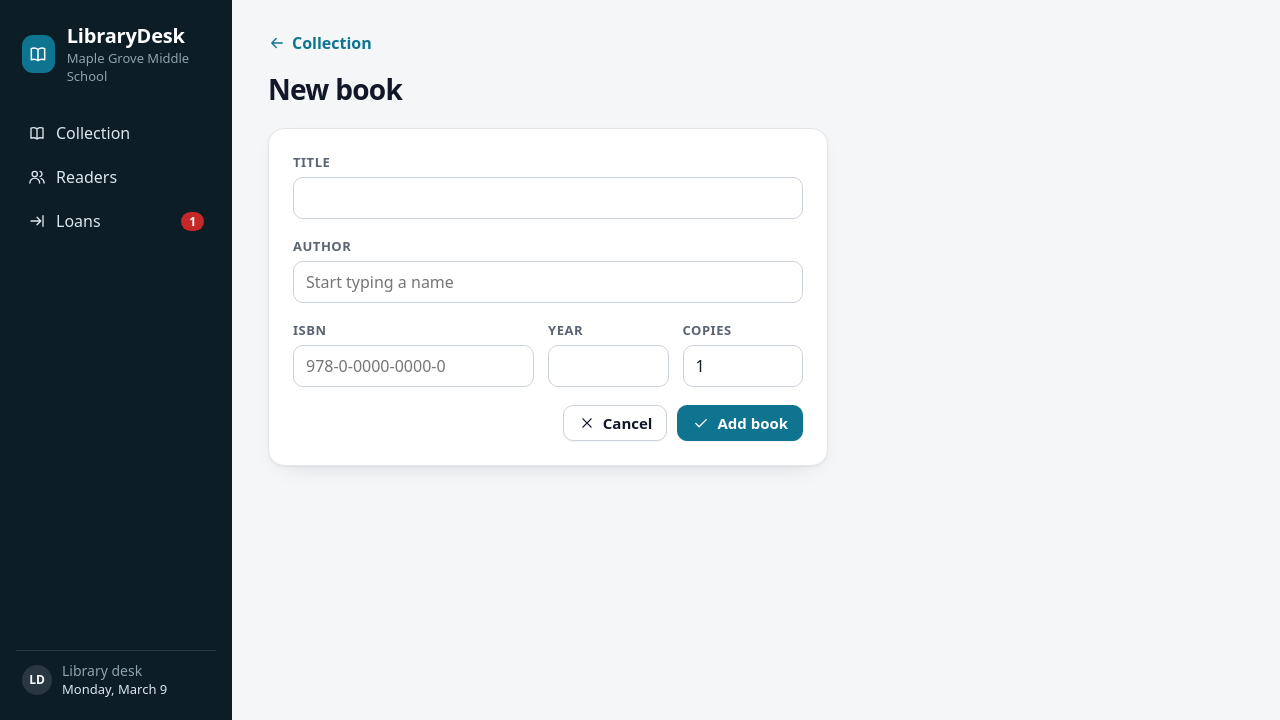
Test: a new book › is added by a new author when the name is not on the list
The width and height of the screenshot is (1280, 720).
Expected: the navigation bar named "Main" is shown, x1=16 y1=113 x2=216 y2=241
In the field labelled "Title": (548, 198) x1=293 y1=177 x2=803 y2=219, type "Go Set a Watchman"
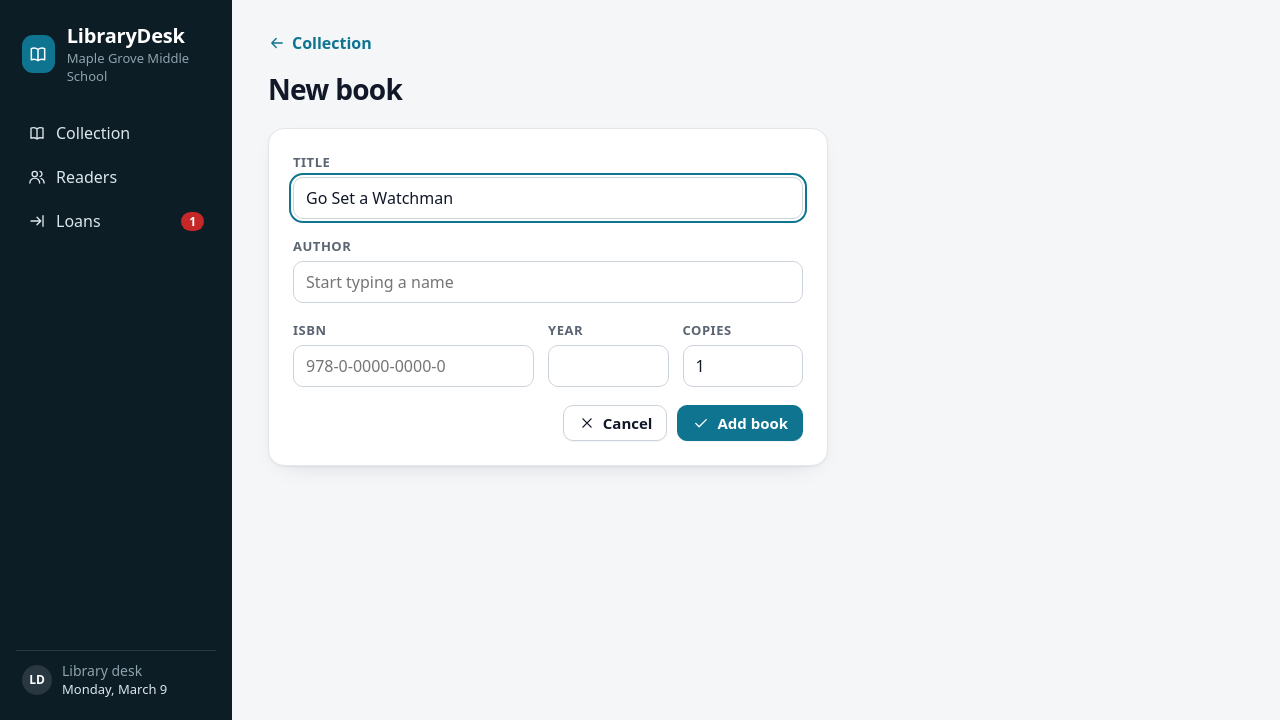
In the field labelled "ISBN": (414, 366) x1=293 y1=345 x2=534 y2=387, type "9780306406157"
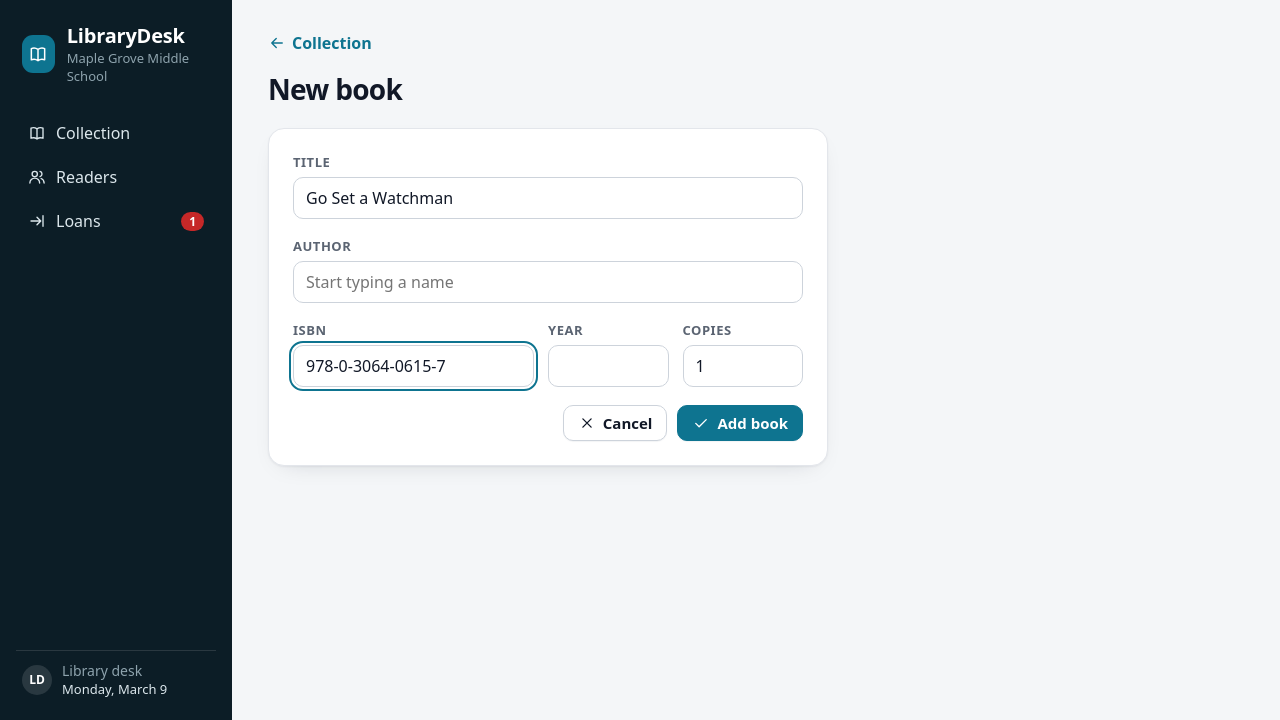
In the field labelled "Year": (608, 366) x1=548 y1=345 x2=668 y2=387, type "2015"
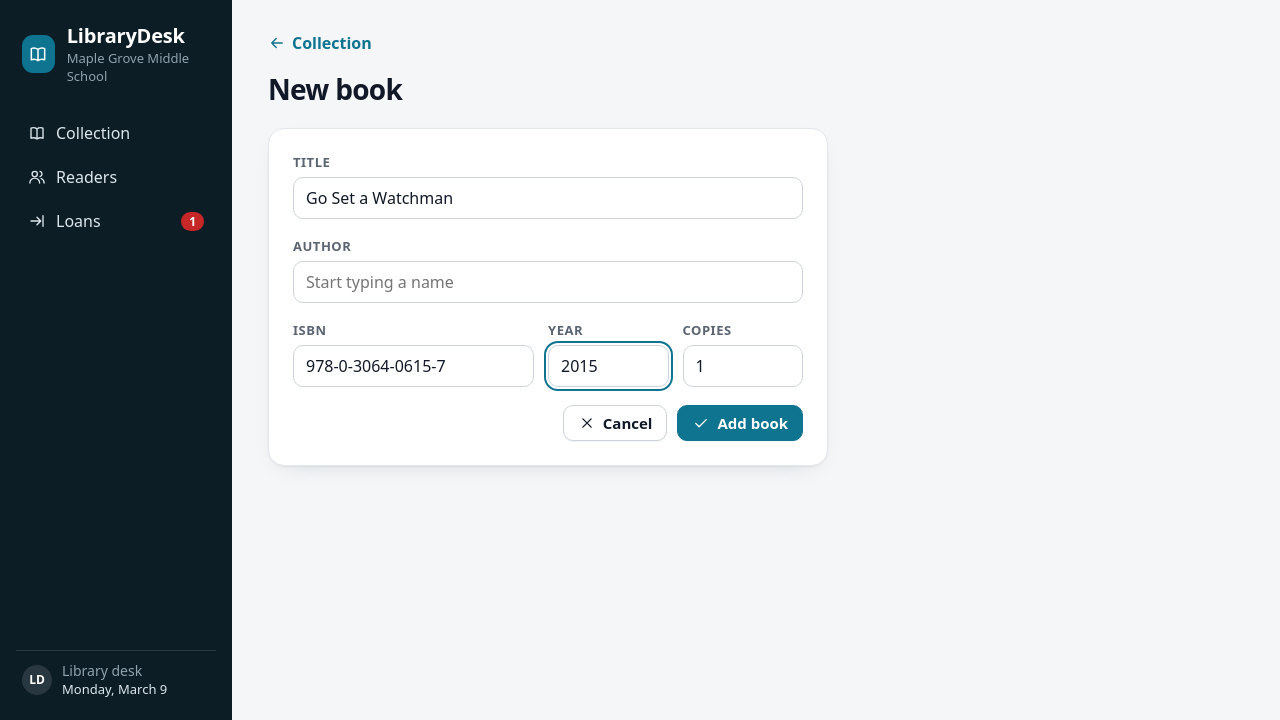
In the dropdown labelled "Author": (548, 282) x1=293 y1=261 x2=803 y2=303, type "Louisa May Alcott"
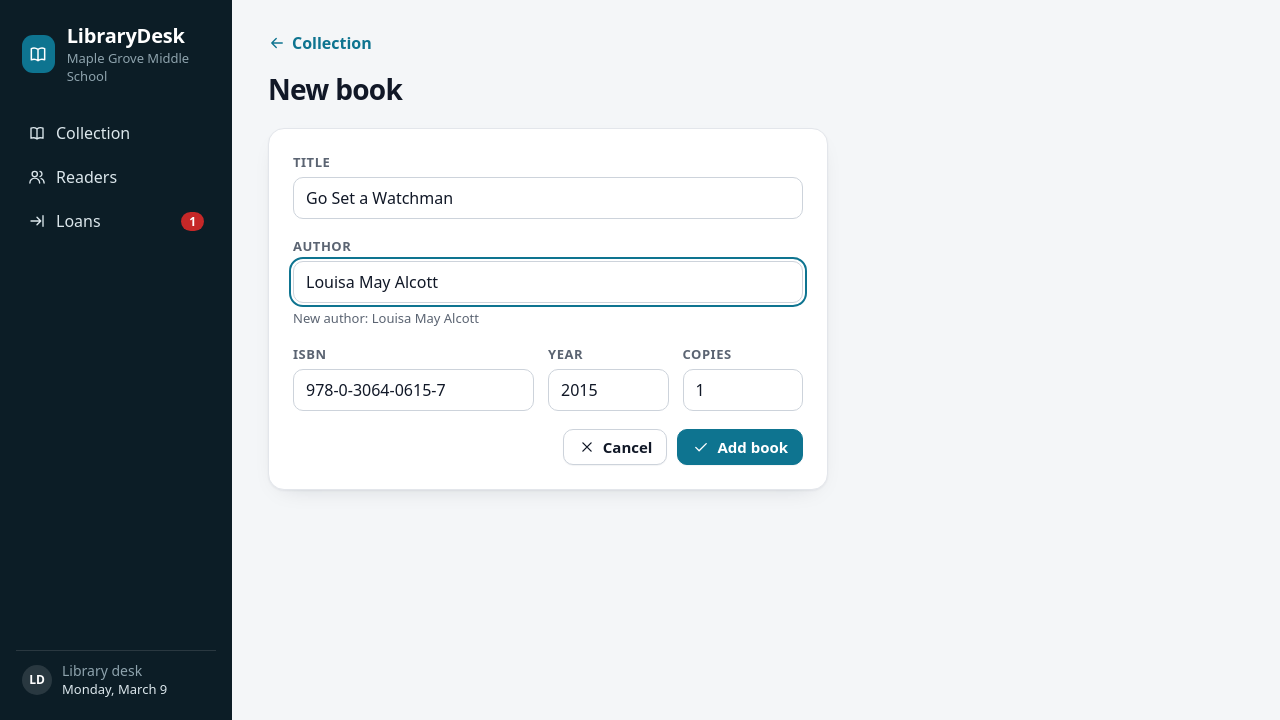
Expected: the text "New author: Louisa May Alcott" is shown, x1=293 y1=309 x2=479 y2=327
Click the button "Add book": (740, 447) x1=677 y1=429 x2=803 y2=465
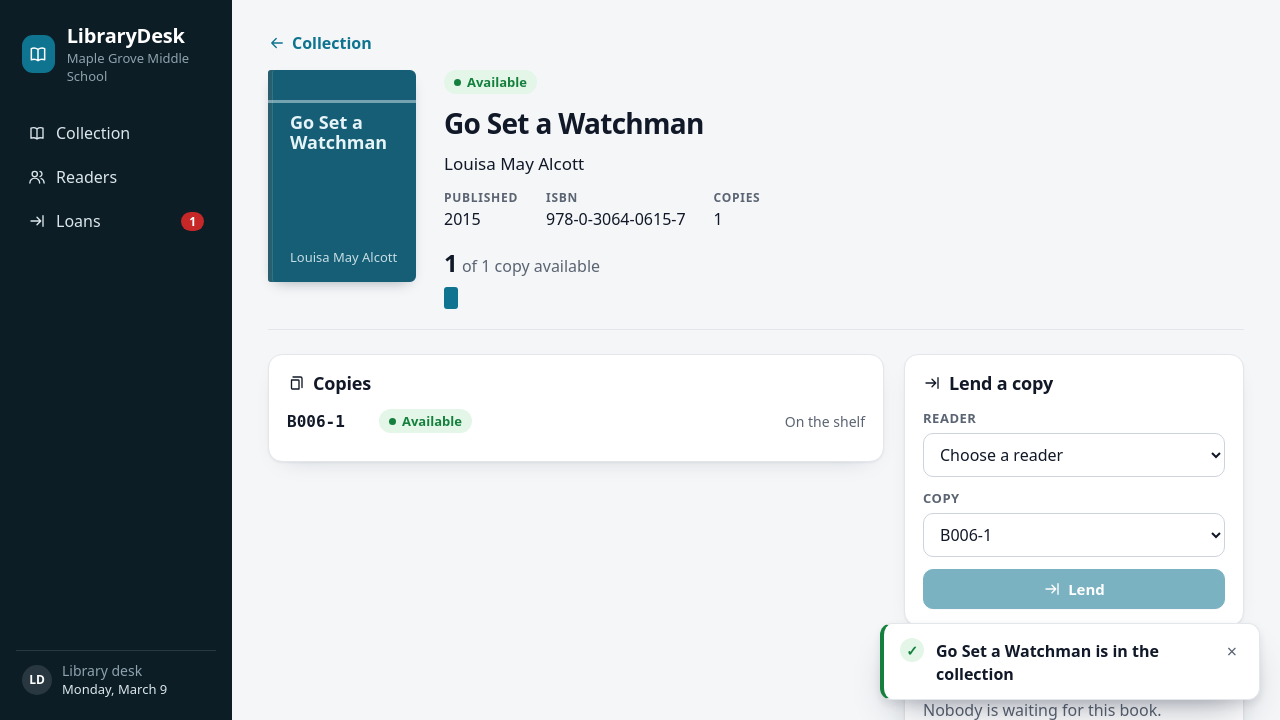
Expected: the text "Go Set a Watchman is in the collection" is shown, x1=936 y1=640 x2=1159 y2=685
